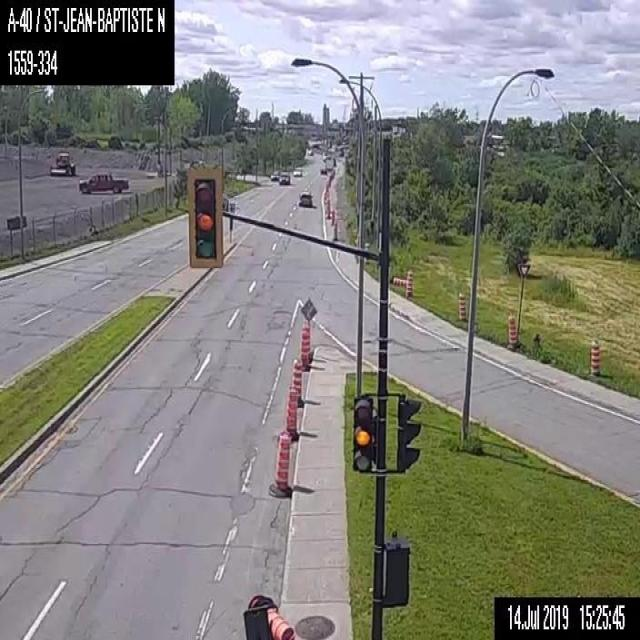construction: (242, 592, 296, 639), (268, 432, 290, 497), (286, 386, 297, 440), (291, 358, 302, 406), (299, 324, 310, 370), (588, 339, 598, 376), (456, 291, 466, 320), (405, 269, 414, 299), (508, 315, 516, 344), (392, 276, 406, 285), (333, 222, 338, 237), (331, 208, 335, 224), (326, 202, 330, 217)
vehicle: (78, 170, 127, 192), (49, 151, 76, 176), (298, 191, 312, 205), (278, 170, 290, 183), (292, 166, 302, 176), (270, 170, 278, 180), (319, 167, 326, 173)
